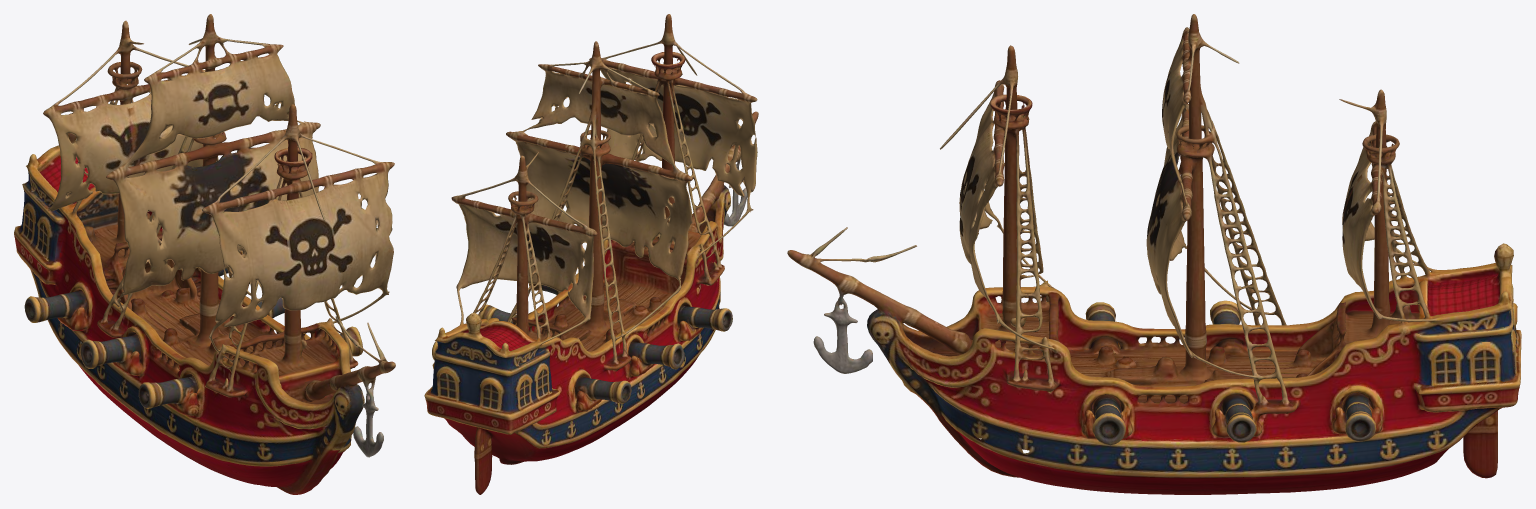
The model's file is pirate_ship.glb.
3 views of the same model, side by side, from view 1: azimuth 30°, elevation 25°; view 2: azimuth 150°, elevation 25°; view 3: azimuth 270°, elevation 25° (orthographic). The views are drawn at different scales.
Parts seen in each view (by area): view 1: tripo_node_4fbb27ee; view 2: tripo_node_4fbb27ee; view 3: tripo_node_4fbb27ee.
Part boxes in pixels (x1,y1,x2,y2): tripo_node_4fbb27ee: (14,14,395,494); tripo_node_4fbb27ee: (424,14,758,494); tripo_node_4fbb27ee: (787,14,1521,494).
Bounding box in the file's own units: 37.12 × 68.19 × 97.65.
Materials: 1 (1 with a texture image).
